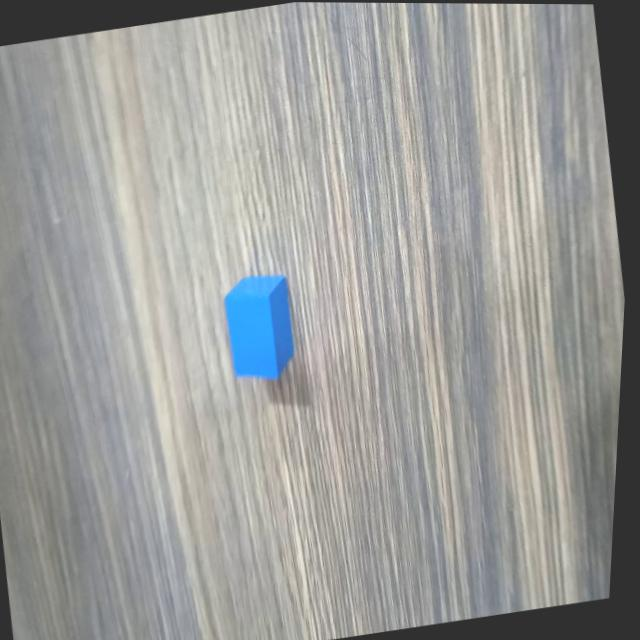cube: (217, 266, 308, 387)
